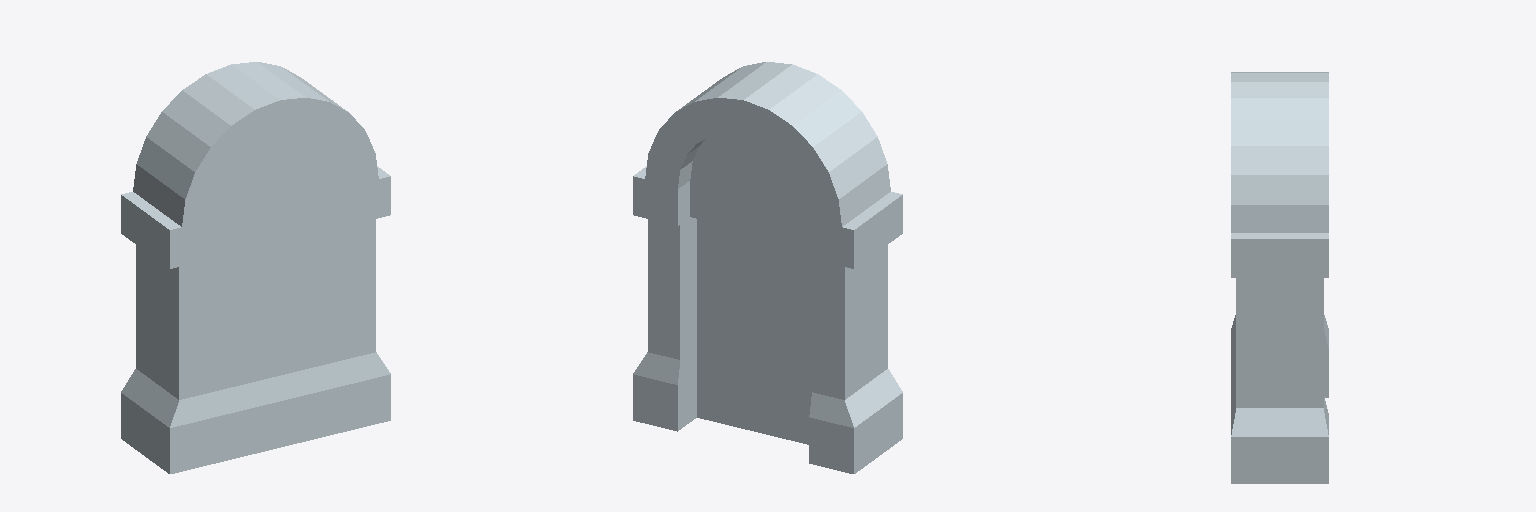
The model's file is gravestoneRound.obj.
3 views of the same model, side by side, from view 1: azimuth 30°, elevation 25°; view 2: azimuth 150°, elevation 25°; view 3: azimuth 270°, elevation 25° (orthographic).
Parts seen in each view (by area): view 1: gravestoneRound; view 2: gravestoneRound; view 3: gravestoneRound.
Part boxes in pixels (x1,y1,x2,y2): gravestoneRound: (121, 62, 390, 473); gravestoneRound: (633, 62, 902, 473); gravestoneRound: (1231, 72, 1328, 483).
Size of the model in its own units: 3.9 by 5.85 by 1.5.